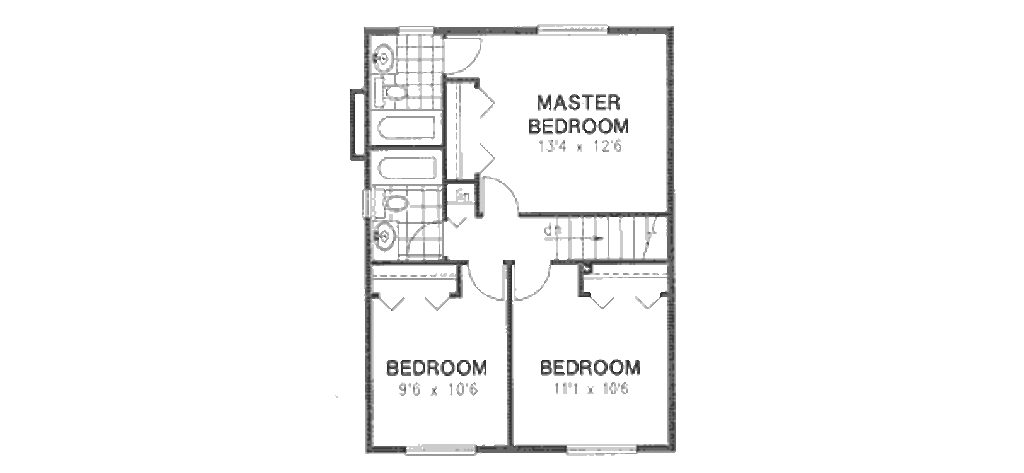door: (401, 215, 448, 259), (444, 36, 487, 79), (483, 176, 526, 218), (512, 258, 550, 305), (469, 264, 507, 302)
large_sink: (368, 74, 418, 108), (370, 188, 415, 222)
small_sink: (371, 36, 396, 72), (374, 221, 397, 260)
stairs: (537, 210, 671, 267)
tub: (377, 111, 440, 145), (379, 154, 442, 184)
window: (405, 444, 479, 456), (569, 442, 637, 454), (540, 27, 612, 36), (396, 26, 434, 35)
